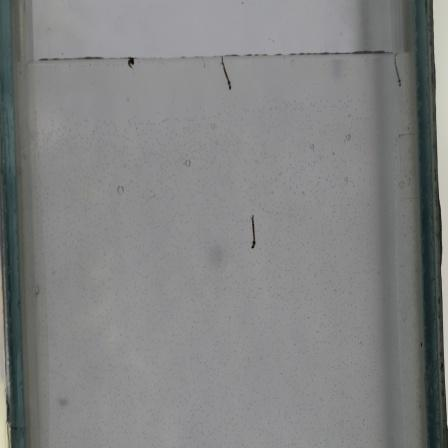Jentik-Nyamuk: (246, 209, 265, 252), (387, 49, 406, 90), (215, 58, 237, 93), (124, 54, 141, 73)
